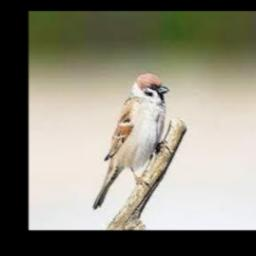Sparrow: (93, 72, 168, 209)
